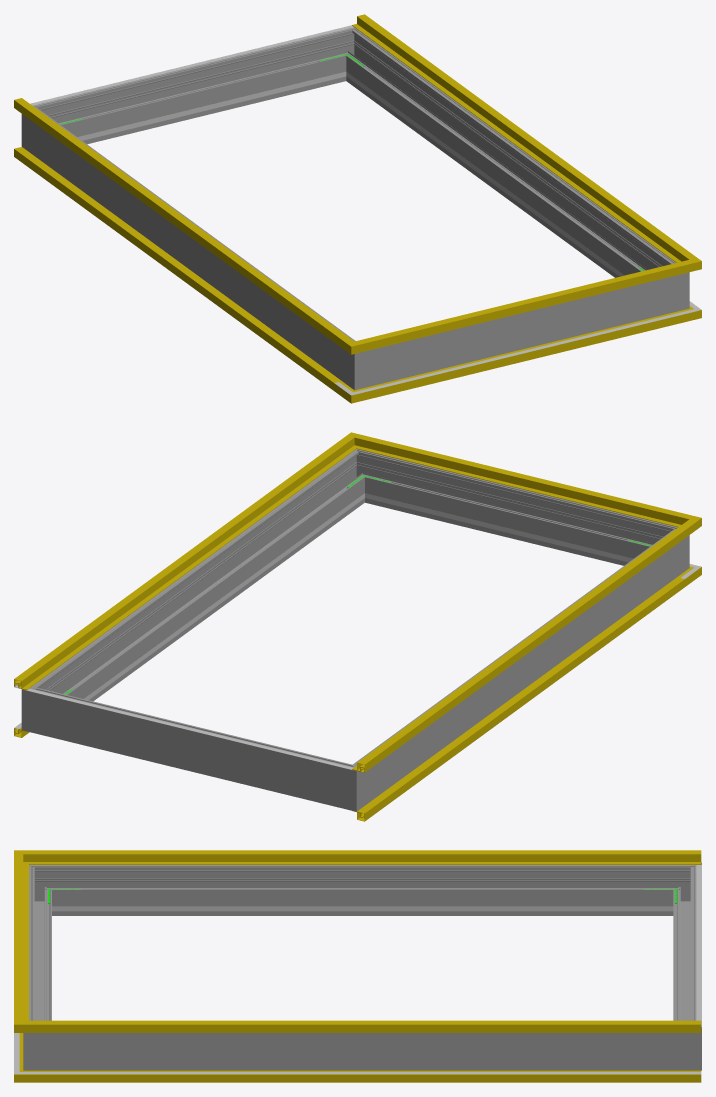
The picture shows the model from 3 angles, top to bottom: view 1: azimuth 30°, elevation 25°; view 2: azimuth 150°, elevation 25°; view 3: azimuth 270°, elevation 25°; orthographic projection.
Parts seen in each view (by area): view 1: 3DGeom-297, 3DGeom-276, 3DGeom-268, 3DGeom-298, 3DGeom-128, 3DGeom-118, 3DGeom-6, 3DGeom-123, 3DGeom-11, 3DGeom-270, 3DGeom-25, 3DGeom-237 (+7 smaller); view 2: 3DGeom-297, 3DGeom-298, 3DGeom-276, 3DGeom-268, 3DGeom-128, 3DGeom-118, 3DGeom-123, 3DGeom-6, 3DGeom-278, 3DGeom-25, 3DGeom-237, 3DGeom-284 (+5 smaller); view 3: 3DGeom-268, 3DGeom-297, 3DGeom-118, 3DGeom-128, 3DGeom-16, 3DGeom-232, 3DGeom-276, 3DGeom-298, 3DGeom-123, 3DGeom-18, 3DGeom-284, 3DGeom-290 (+6 smaller).
Part boxes in pixels (<box>): 3DGeom-297: <box>349,37,667,277</box>; 3DGeom-276: <box>53,33,341,144</box>; 3DGeom-268: <box>38,116,346,377</box>; 3DGeom-298: <box>383,279,660,382</box>; 3DGeom-128: <box>352,14,684,259</box>; 3DGeom-118: <box>14,98,341,341</box>; 3DGeom-6: <box>14,147,341,390</box>; 3DGeom-123: <box>376,265,672,347</box>; 3DGeom-11: <box>376,314,672,396</box>; 3DGeom-270: <box>337,335,383,390</box>; 3DGeom-25: <box>14,147,338,382</box>; 3DGeom-237: <box>362,84,624,276</box>; 3DGeom-297: <box>43,459,361,701</box>; 3DGeom-298: <box>369,455,657,565</box>; 3DGeom-276: <box>51,692,332,804</box>; 3DGeom-268: <box>364,537,672,799</box>; 3DGeom-128: <box>14,444,346,690</box>; 3DGeom-118: <box>352,528,684,772</box>; 3DGeom-123: <box>373,439,672,523</box>; 3DGeom-6: <box>353,577,684,821</box>; 3DGeom-278: <box>327,756,373,811</box>; 3DGeom-25: <box>360,578,684,814</box>; 3DGeom-237: <box>84,505,348,700</box>; 3DGeom-284: <box>21,678,55,737</box>; 3DGeom-268: <box>57,865,667,915</box>; 3DGeom-297: <box>57,1033,667,1070</box>; 3DGeom-118: <box>48,850,701,864</box>; 3DGeom-128: <box>48,1020,701,1032</box>; 3DGeom-16: <box>48,1070,701,1082</box>; 3DGeom-232: <box>85,906,639,911</box>; 3DGeom-276: <box>673,877,696,1020</box>; 3DGeom-298: <box>29,877,51,1020</box>; 3DGeom-123: <box>14,864,28,1017</box>; 3DGeom-18: <box>48,1072,701,1074</box>; 3DGeom-284: <box>667,1014,701,1070</box>; 3DGeom-290: <box>23,1014,57,1070</box>.
Size of the model in its own units: 1.83 by 0.2836 by 3.05.
